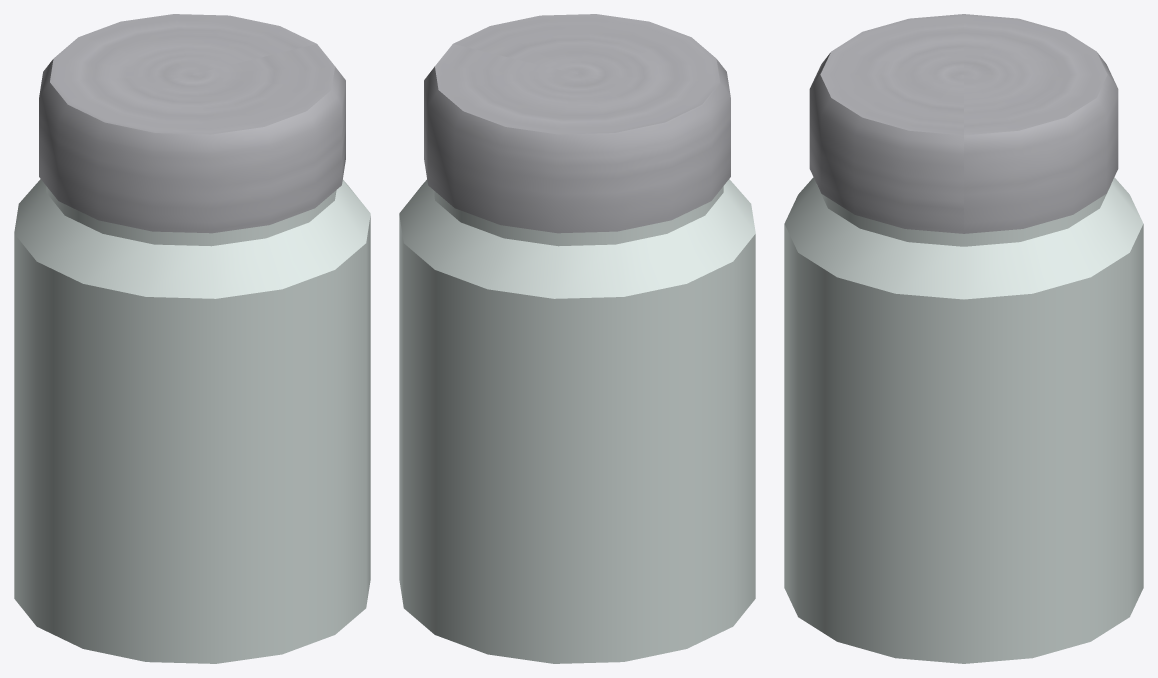
Rendered from SM_Jar_M_Pickle.fbx.
The picture shows the model from 3 angles, left to right: view 1: azimuth 30°, elevation 25°; view 2: azimuth 150°, elevation 25°; view 3: azimuth 270°, elevation 25°; orthographic projection.
Visible parts, largest first — view 1: SM_Jar_M_Pickle; view 2: SM_Jar_M_Pickle; view 3: SM_Jar_M_Pickle.
Boxes of the visible parts, x1,y1,x2,y2 form: SM_Jar_M_Pickle: (14,14,370,663); SM_Jar_M_Pickle: (399,14,755,663); SM_Jar_M_Pickle: (784,14,1143,663).
Size of the model in its own units: 0.09 by 0.142 by 0.09.
Materials: 3 (3 with a texture image).
